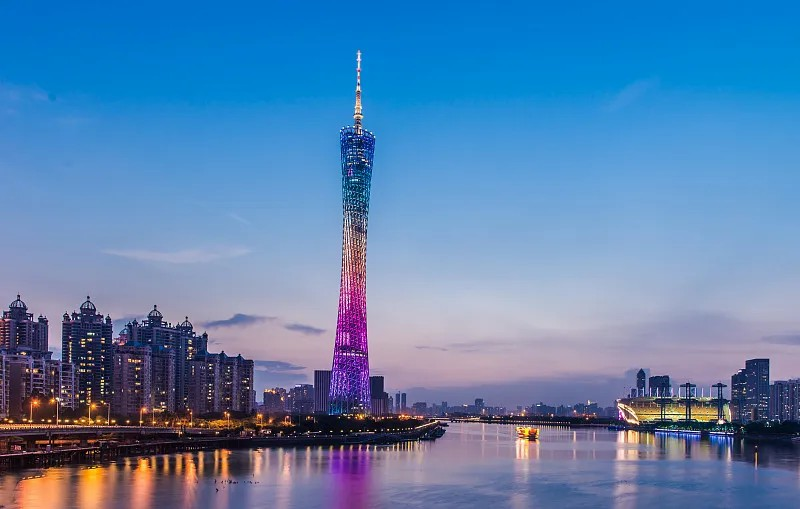Canton: (327, 50, 378, 417)
